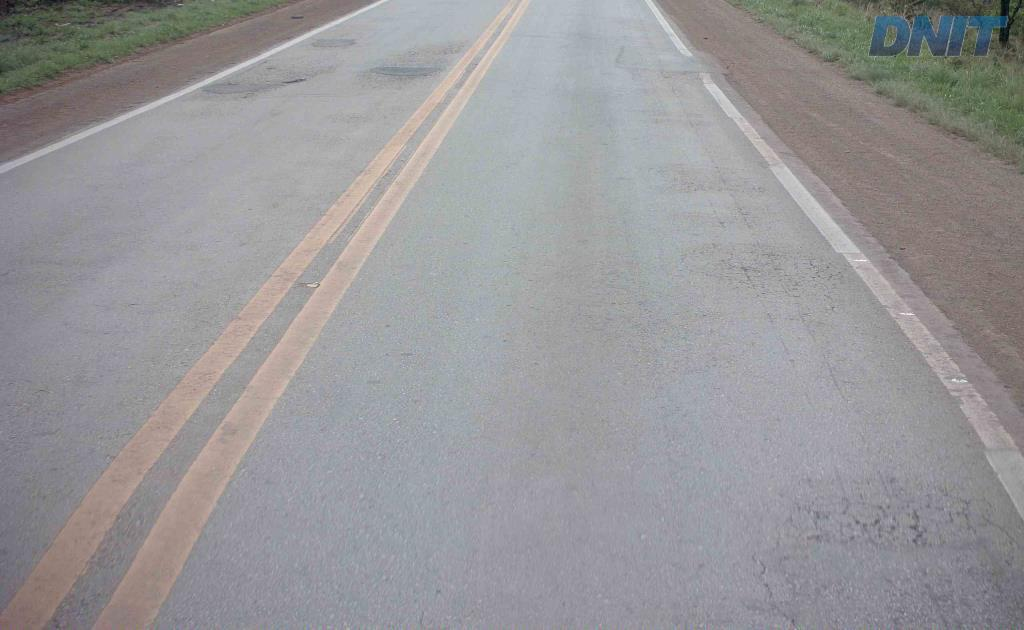crack: (798, 255, 842, 303), (737, 252, 794, 289), (907, 509, 935, 548)
